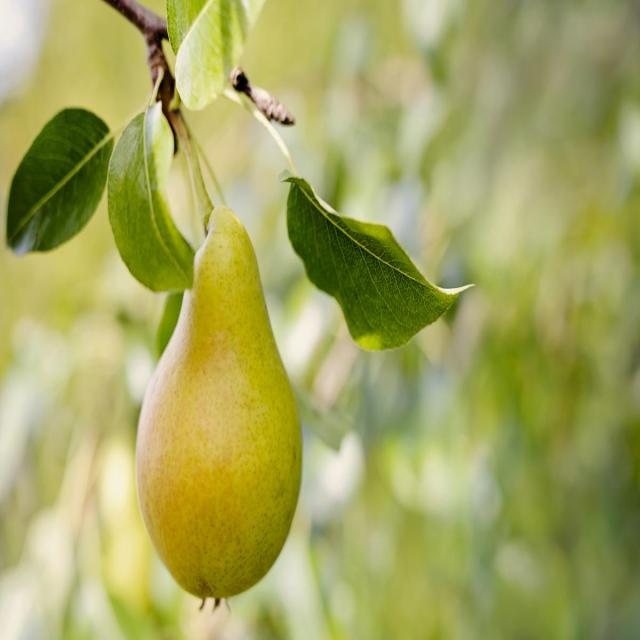pera: (120, 185, 320, 615)
